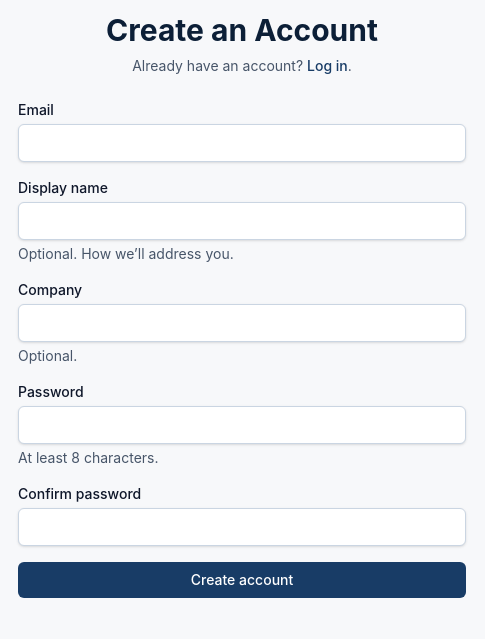
Test: <RegisterPage /> › surfaces a 409 conflict as an inline email error
Type "jane@example.com" into the field labelled "Email" at (242, 143), box [18,124,466,162]
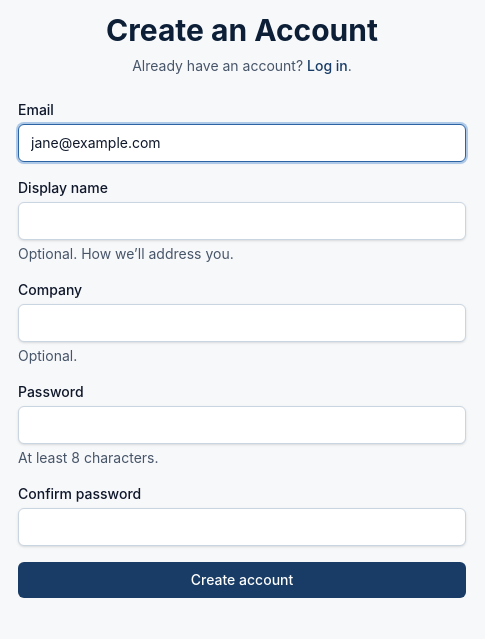
Type "longenough1" into the password field labelled "Password" at (242, 425), box [18,406,466,444]
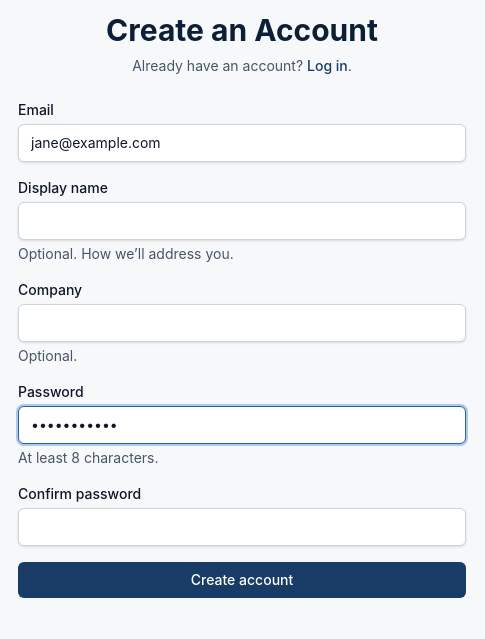
Type "longenough1" into the password field labelled "Confirm password" at (242, 527), box [18,508,466,546]
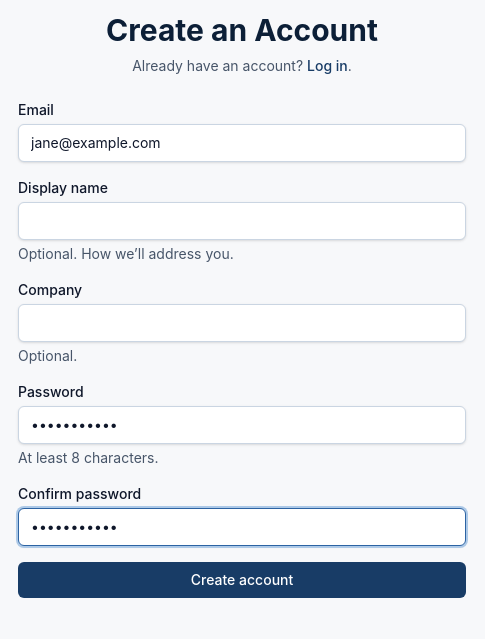
Click the button "Create account" at (242, 580), box [18,562,466,598]
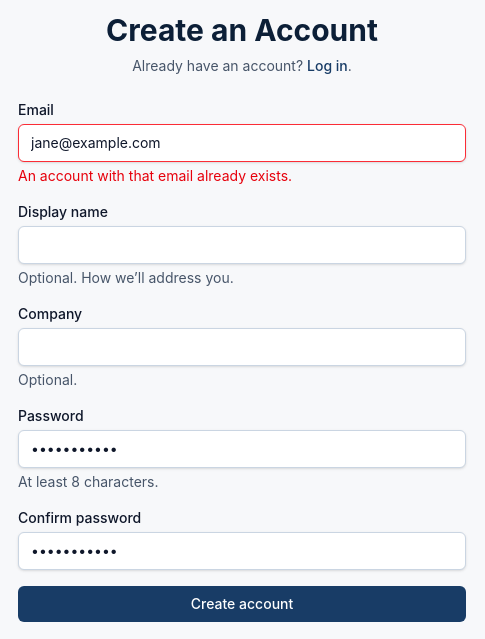
Result: the text "An account with that email already exists." is shown at [18,167,292,184]
